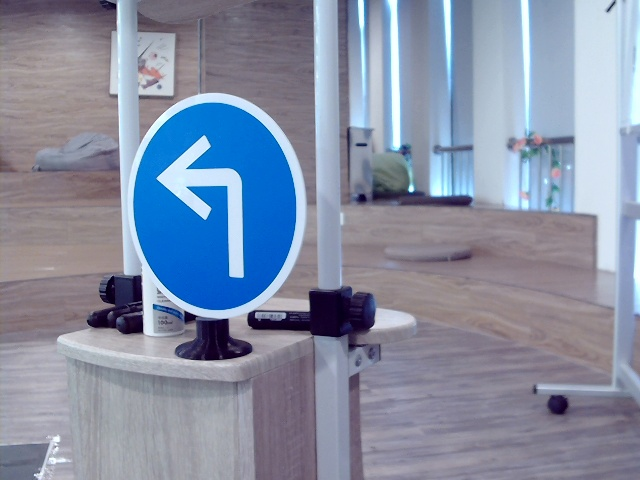turn_left: (156, 134, 257, 280)
